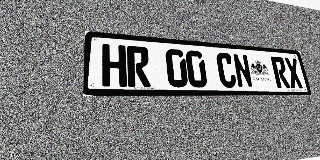0: (165, 49, 188, 87), (185, 50, 208, 88)
C: (215, 52, 237, 88)
H: (102, 44, 127, 87)
N: (232, 54, 254, 88)
R: (126, 46, 151, 87), (270, 56, 291, 88)
X: (284, 57, 304, 88)
